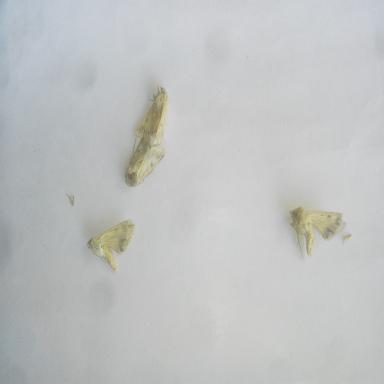abw: (285, 202, 349, 260), (84, 214, 138, 276), (122, 128, 169, 191), (132, 82, 172, 150)
